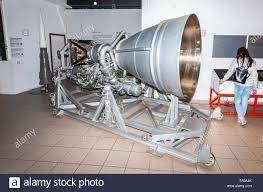thruster: (111, 10, 206, 103)
